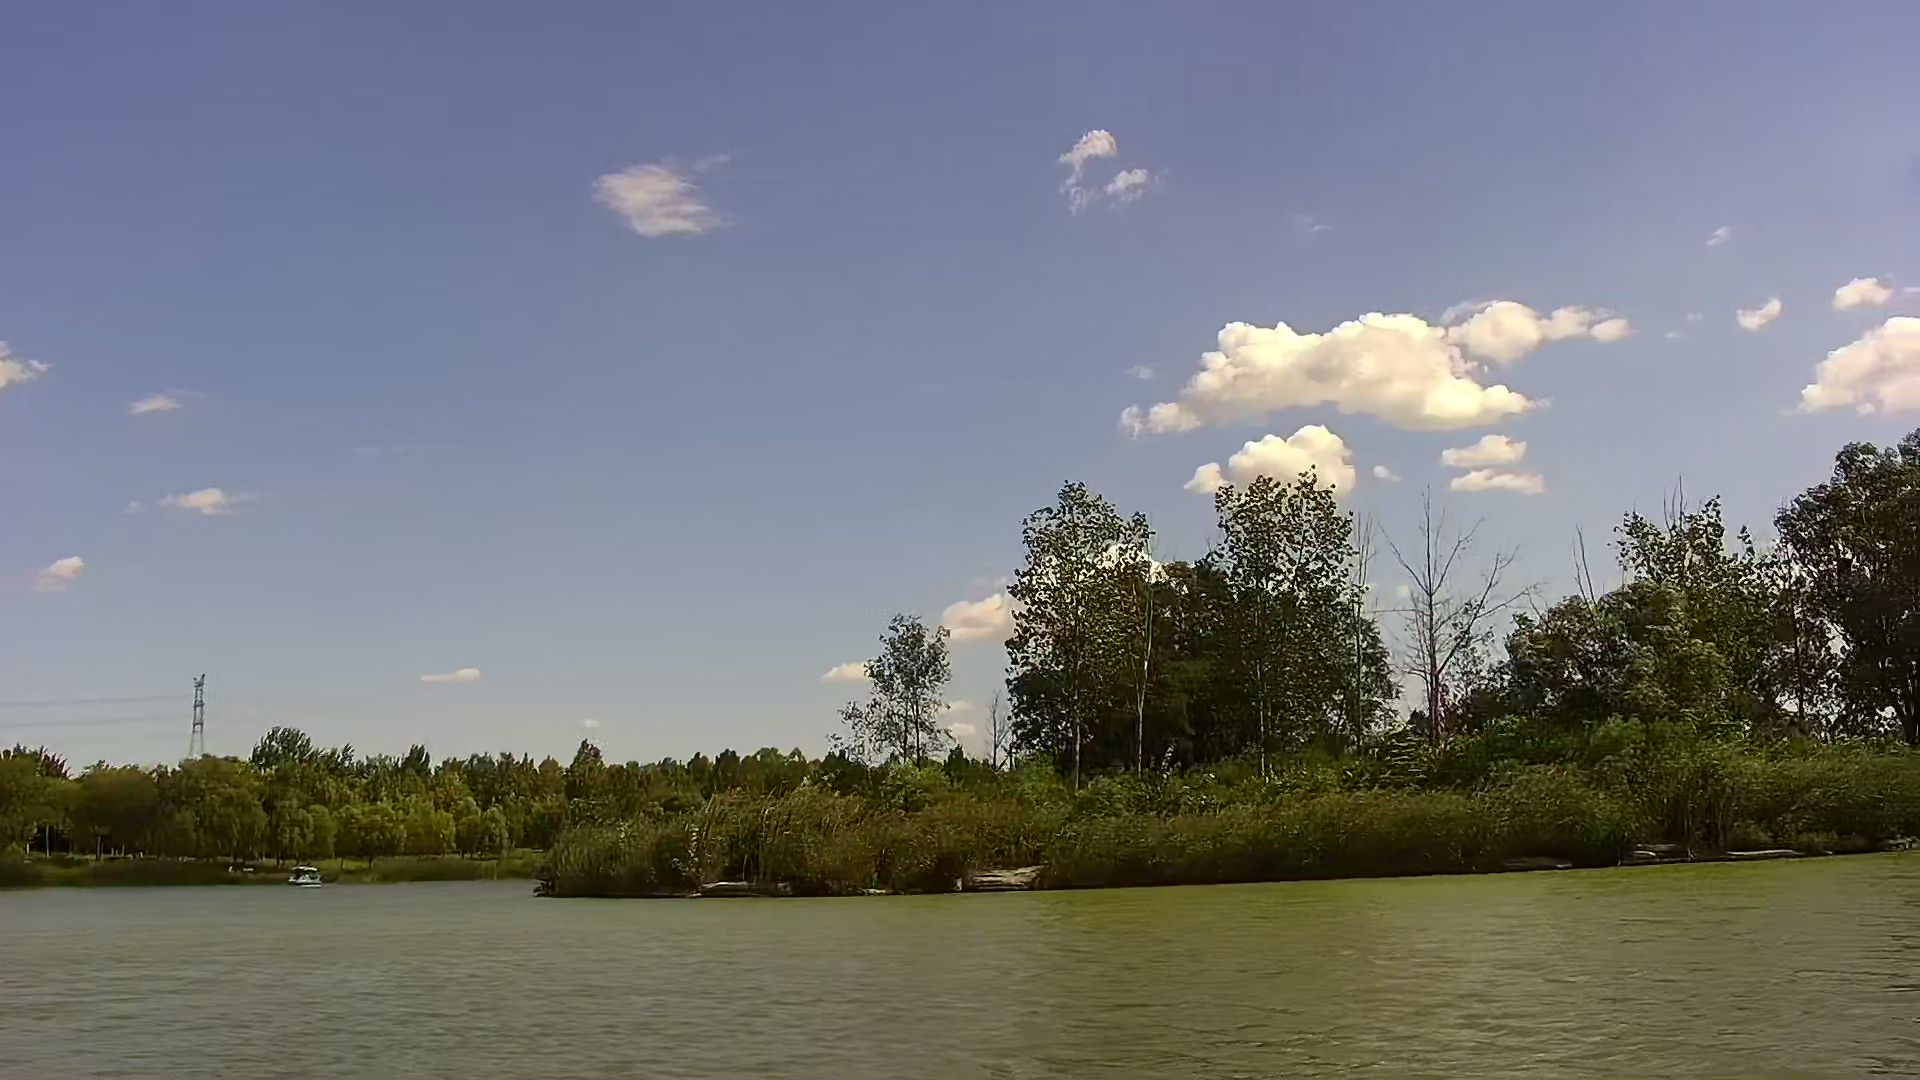boat: (282, 866, 319, 884)
rock: (967, 862, 1044, 891), (696, 877, 769, 893)
